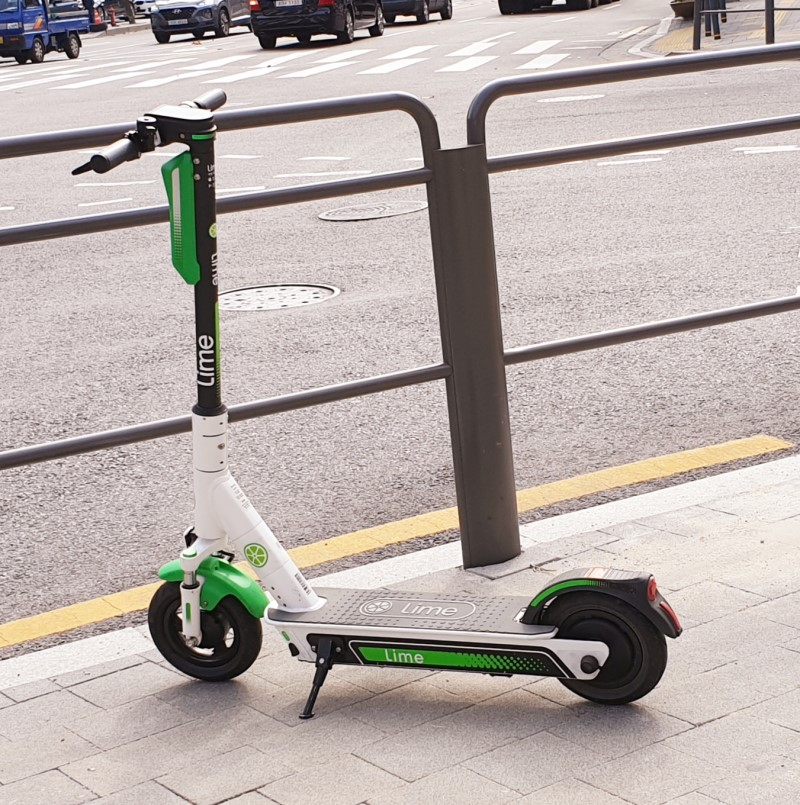scooter: (70, 85, 688, 722)
